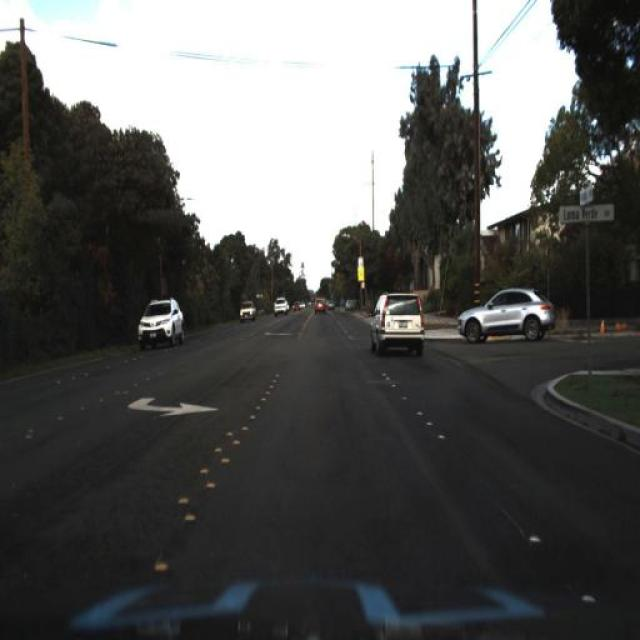car: (452, 284, 558, 337), (371, 288, 431, 362), (138, 298, 186, 348), (233, 295, 258, 329), (234, 296, 260, 326), (270, 293, 290, 321), (314, 292, 332, 314)
